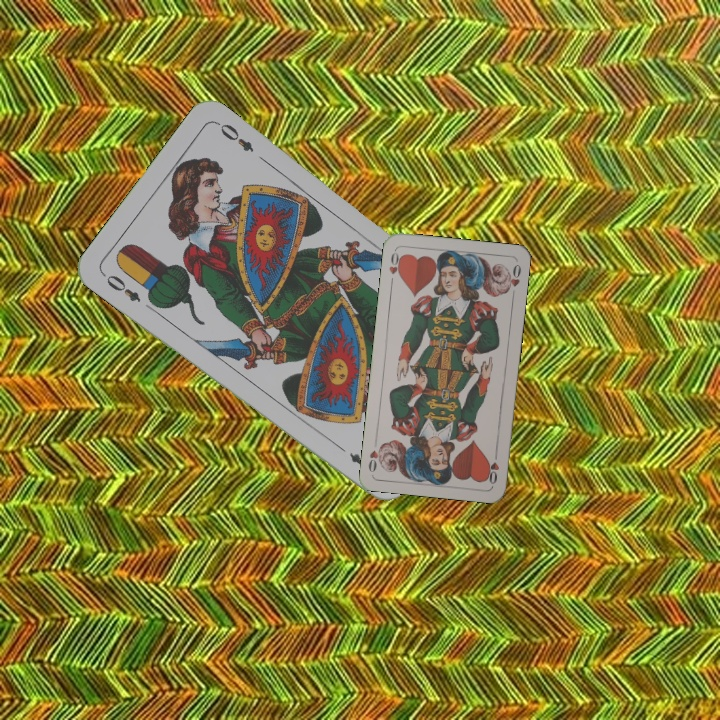EO: (98, 269, 144, 305)
HO: (385, 247, 405, 287), (483, 447, 502, 487)
